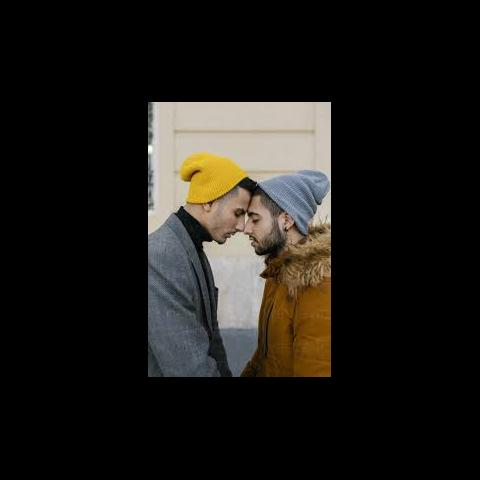closed: (222, 203, 246, 222), (247, 210, 264, 228)
